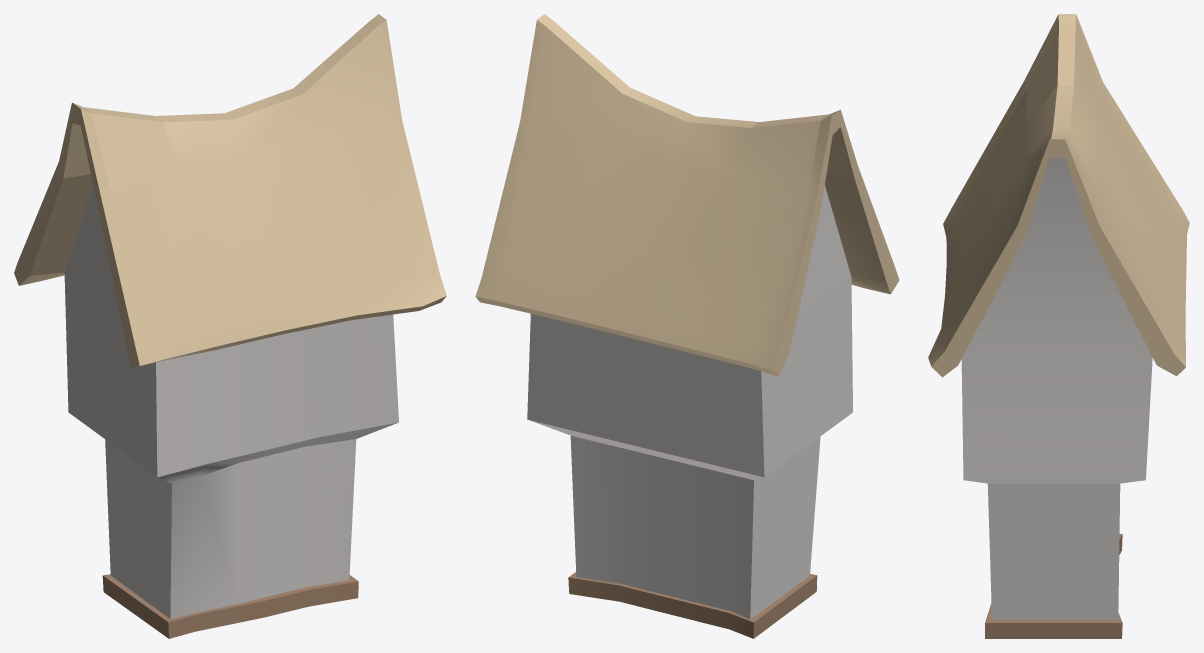
The model's file is Mod_House04.fbx.
The picture shows the model from 3 angles, left to right: view 1: azimuth 30°, elevation 25°; view 2: azimuth 150°, elevation 25°; view 3: azimuth 270°, elevation 25°; orthographic projection.
Visible parts, largest first — view 1: House_04; view 2: House_04; view 3: House_04.
Part boxes in pixels (x1,y1,x2,y2): House_04: (14,14,446,638); House_04: (475,14,899,638); House_04: (928,14,1189,638).
Bounding box in the file's own units: 548 × 937 × 420.
